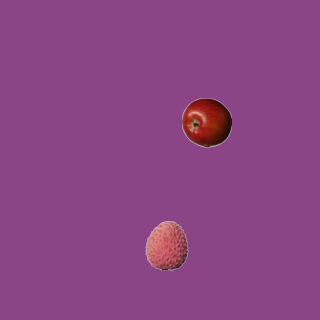Apple Braeburn: (181, 97, 231, 147)
Lychee: (141, 220, 191, 270)
